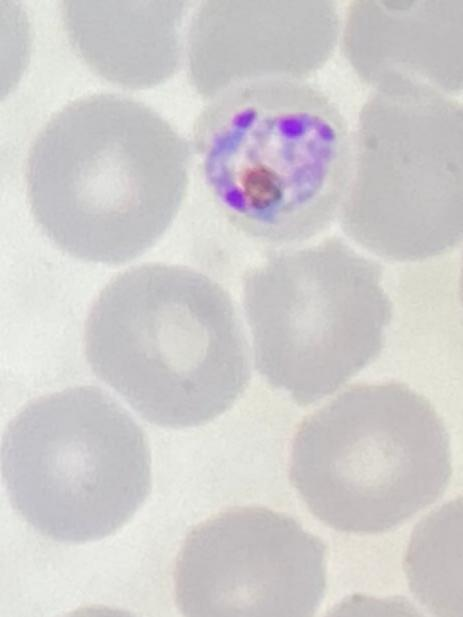Infected: (194, 79, 351, 241)
Uninfected: (86, 264, 250, 425), (32, 97, 181, 259), (288, 384, 447, 531), (1, 387, 145, 541), (243, 246, 387, 399), (342, 93, 458, 259), (174, 507, 322, 615), (187, 2, 334, 91), (62, 1, 188, 87), (345, 1, 456, 98)
